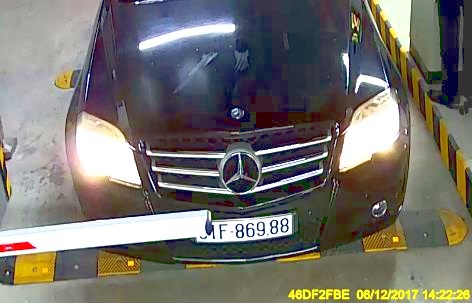plate: (194, 215, 299, 245)
